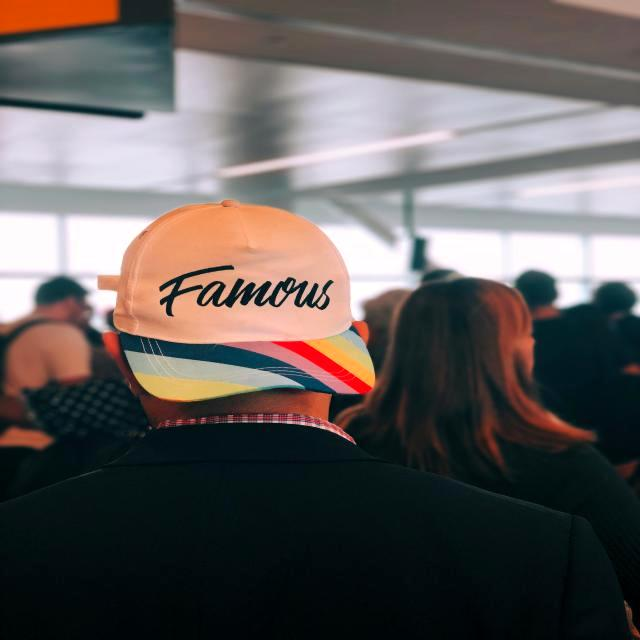no_hard_hat: (98, 201, 374, 401)
no_head_wear: (395, 278, 531, 384)
person: (2, 200, 627, 640), (335, 277, 640, 611)
